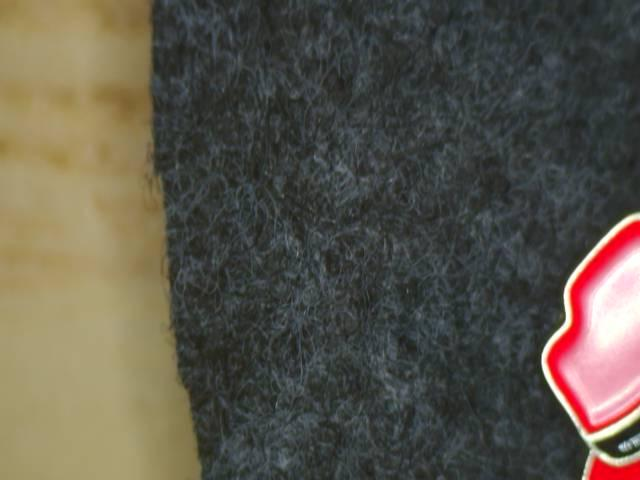Red-Hat: (507, 185, 640, 480)
